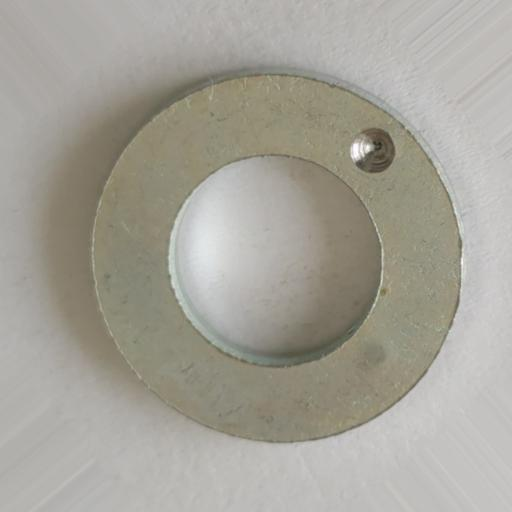circular_cavity: (349, 127, 397, 173)
